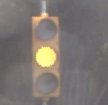Yellow: (29, 15, 69, 98)
